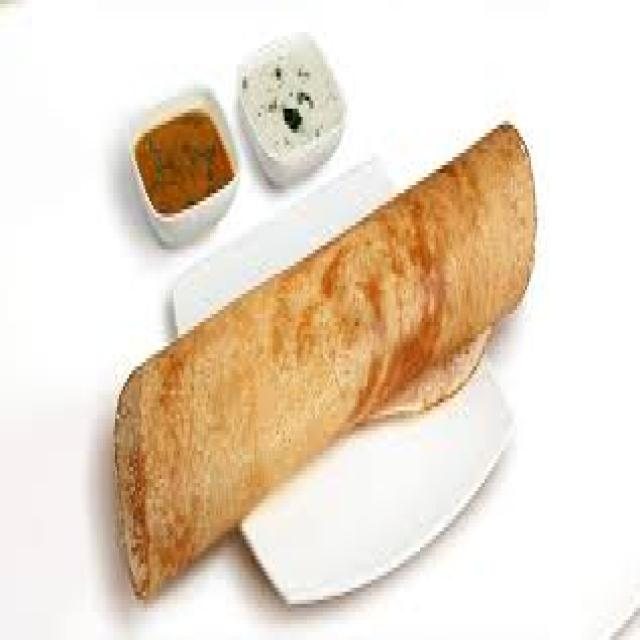DOSA: (113, 121, 537, 596)
